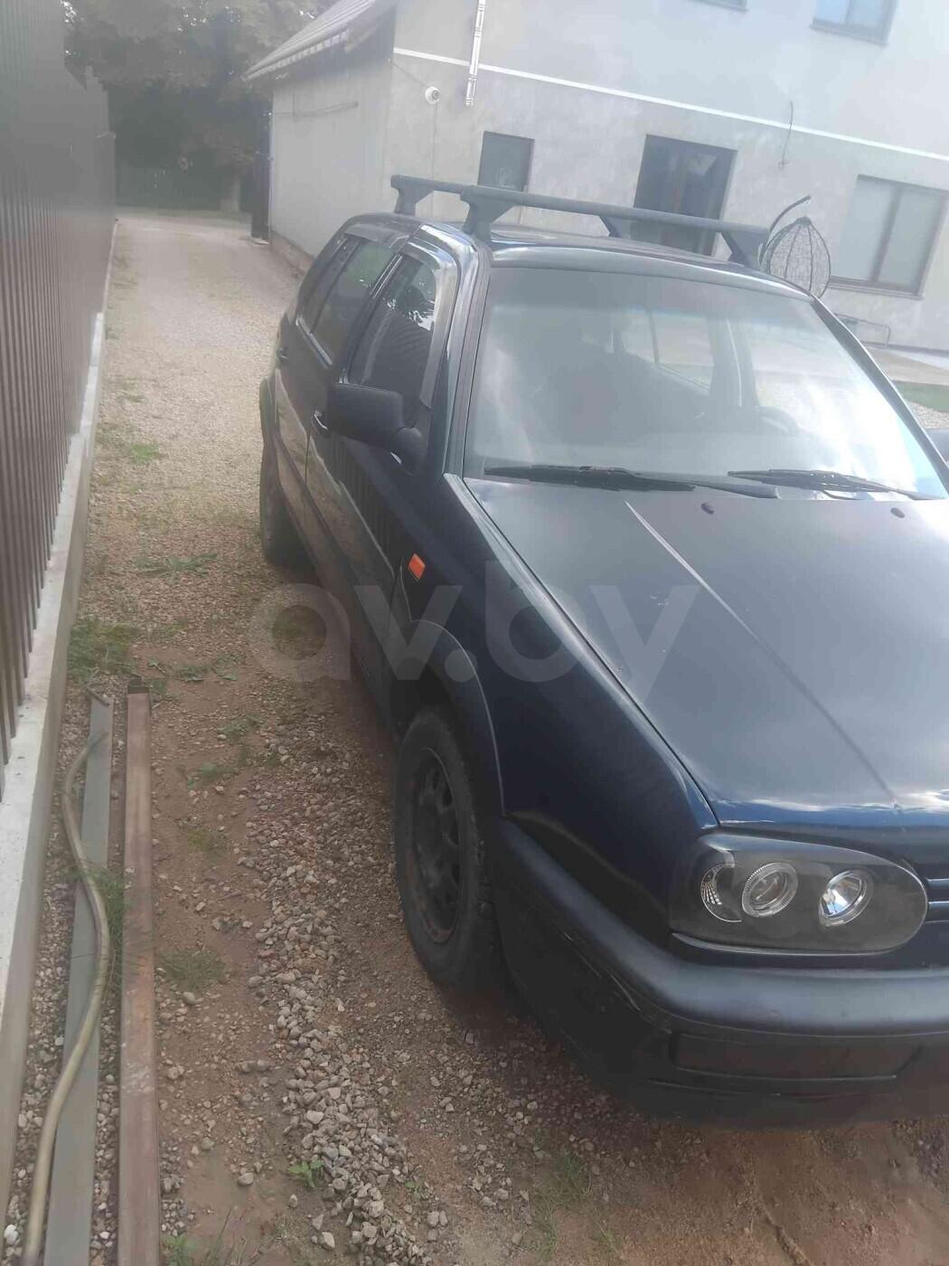Golf_1991-2000: (246, 199, 949, 1127)
